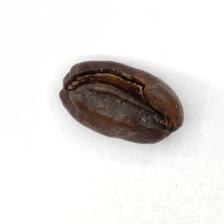NG: (73, 68, 156, 128)
